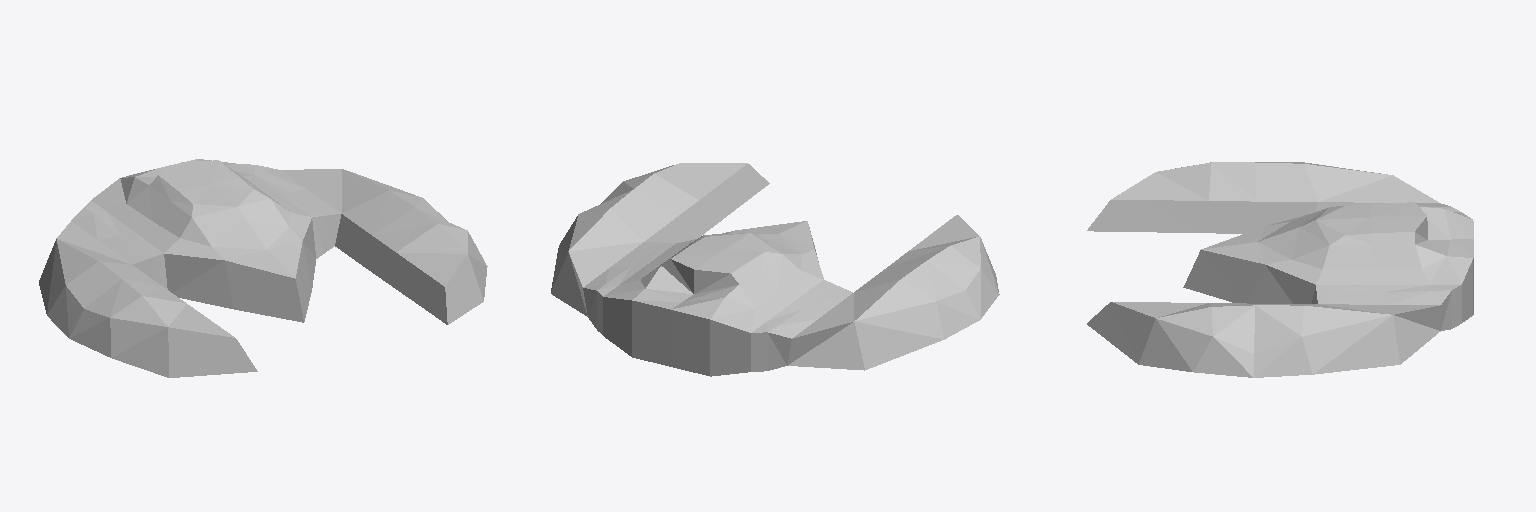
File: EnemyShip.obj
3 views of the same model, side by side, from view 1: azimuth 30°, elevation 25°; view 2: azimuth 150°, elevation 25°; view 3: azimuth 270°, elevation 25° (orthographic).
Visible parts, largest first — view 1: pCube1; view 2: pCube1; view 3: pCube1.
Part boxes in pixels (x1,y1,x2,y2): pCube1: (39,159,487,377); pCube1: (551,163,999,376); pCube1: (1087,162,1473,377).
Bounding box in the file's own units: 146 × 28.07 × 122.